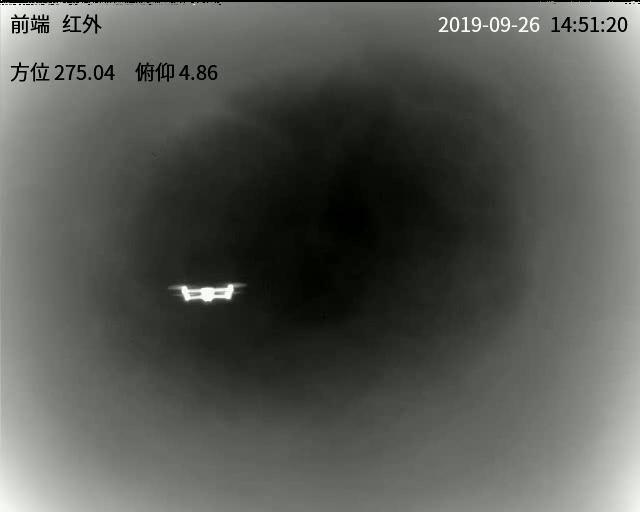DRONE: (172, 283, 241, 302)
